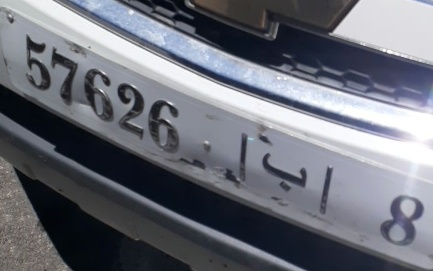2: (115, 80, 152, 138)
5: (22, 28, 52, 95)
6: (148, 95, 183, 153), (82, 65, 114, 121)
7: (50, 44, 83, 108)
8: (370, 184, 429, 251)
b: (255, 146, 317, 197)
